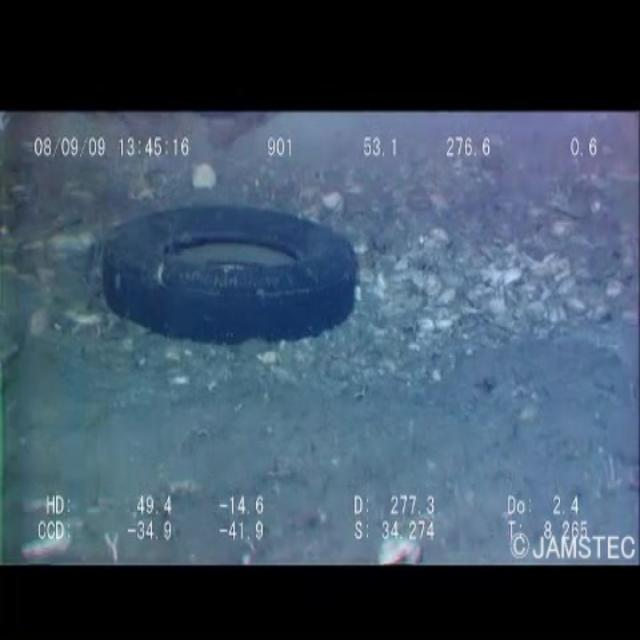Rubber: (84, 194, 369, 360)
